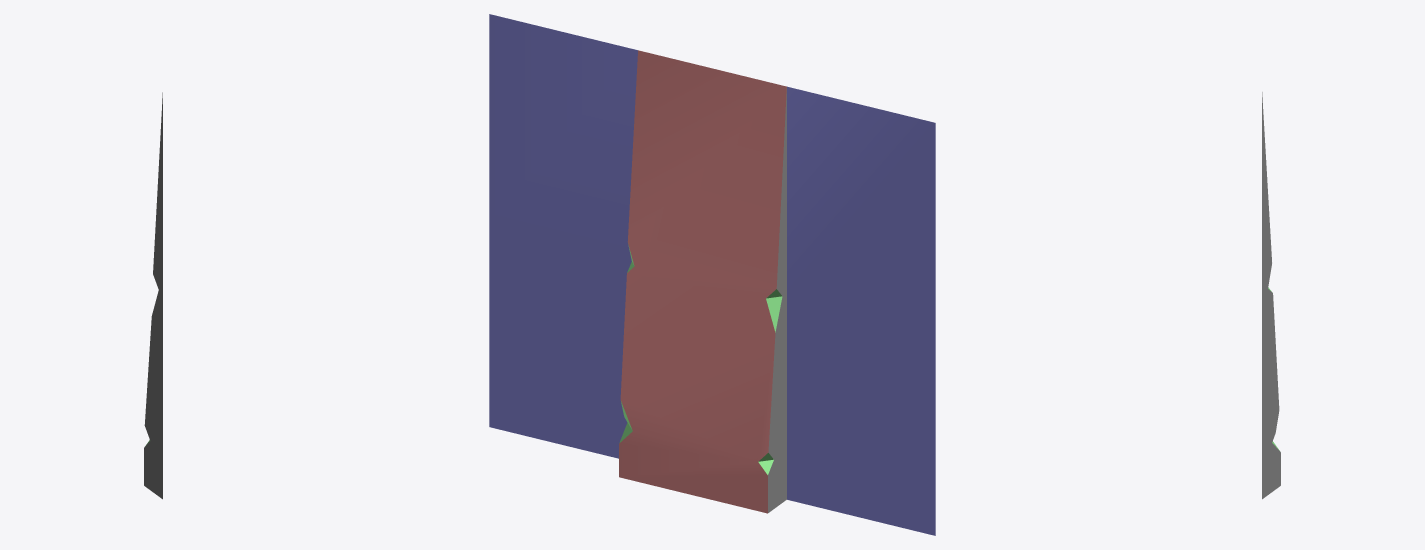
Rendered from SSQ_BRoom02_Gatedoor.gltf.
3 views of the same model, side by side, from view 1: azimuth 30°, elevation 25°; view 2: azimuth 150°, elevation 25°; view 3: azimuth 330°, elevation 25° (orthographic).
Visible parts, largest first — view 1: SSQ_BRoom02_Gatedoor; view 2: SSQ_BRoom02_Gatedoor; view 3: SSQ_BRoom02_Gatedoor.
Part boxes in pixels (x1,y1,x2,y2): SSQ_BRoom02_Gatedoor: (144, 92, 162, 499); SSQ_BRoom02_Gatedoor: (489, 14, 935, 535); SSQ_BRoom02_Gatedoor: (1262, 92, 1280, 499).
Size of the model in its own units: 2.49 by 2.21 by 0.1835.
